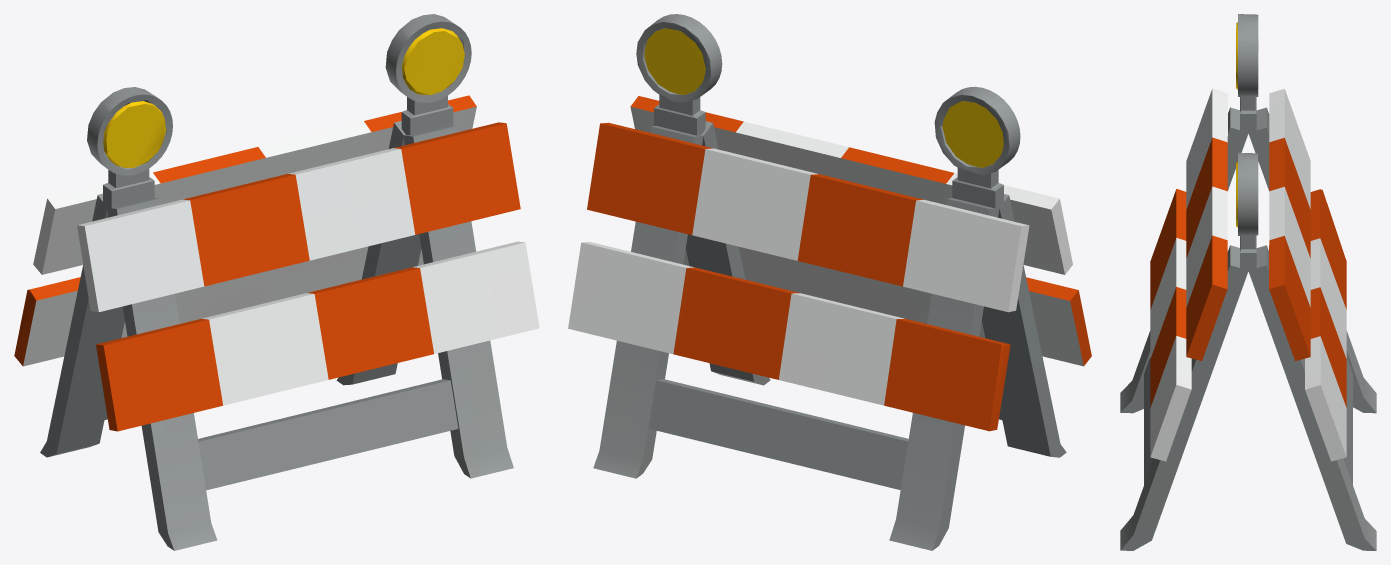
Rendered from PlacaObra.glb.
3 renders of one model, left to right at view 1: azimuth 30°, elevation 25°; view 2: azimuth 150°, elevation 25°; view 3: azimuth 270°, elevation 25°, orthographic. The views are drawn at different scales.
Parts seen in each view (by area): view 1: PlacaObra; view 2: PlacaObra; view 3: PlacaObra.
Boxes of the visible parts, <box> form: PlacaObra: <box>14,14,539,550</box>; PlacaObra: <box>568,14,1091,550</box>; PlacaObra: <box>1120,14,1376,550</box>.
Size of the model in its own units: 2.42 by 2.22 by 1.33.
Materials: 1 (1 with a texture image).
